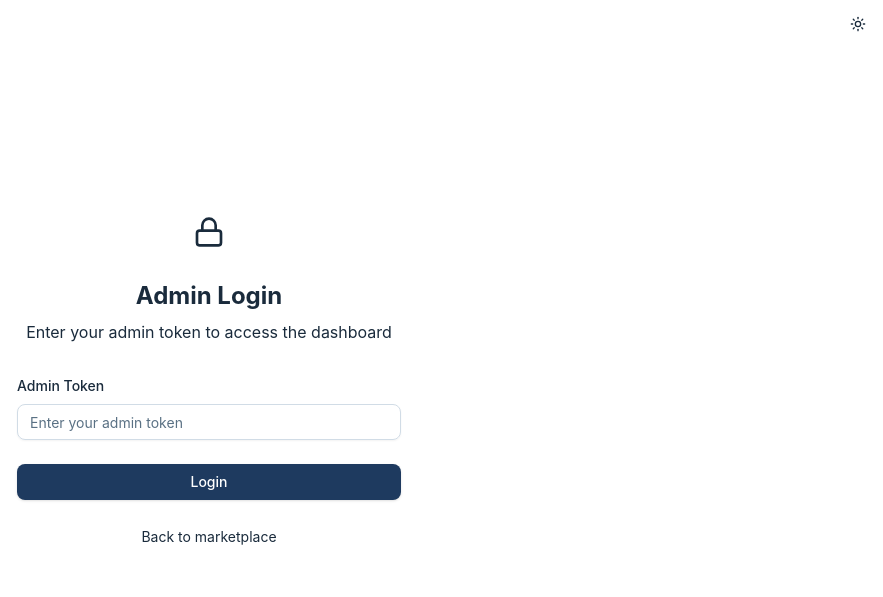
Scenario: Admin Login Flow › shows error when submitting empty token
What coordinates should you click on to do the following:
click the button "Login"
I would click on:
 (209, 482)
Its box is [17, 464, 401, 500].
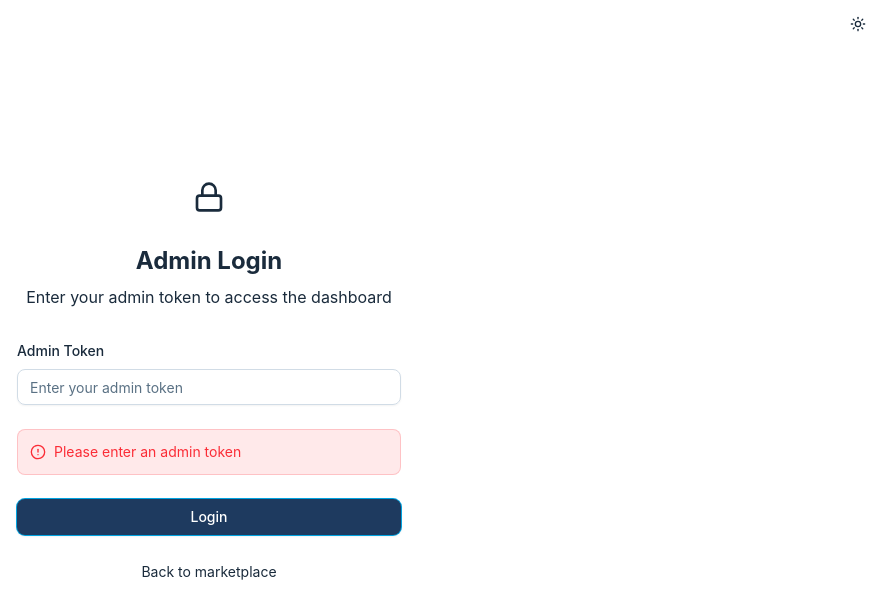
Check: the text "Please enter an admin token" is shown, box [54, 442, 241, 462]
